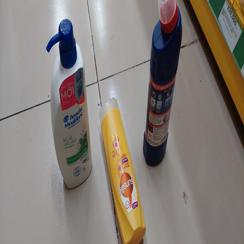h_s: (43, 21, 98, 191)
sunsilk yellow: (96, 92, 147, 244)
vim blue: (142, 1, 183, 167)
